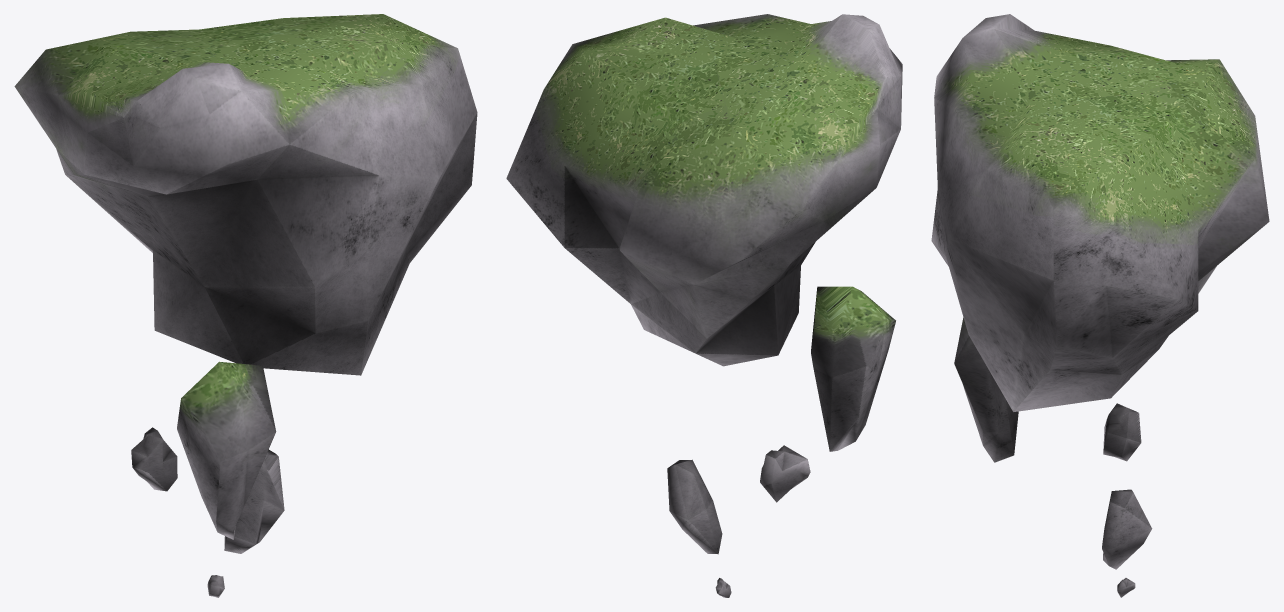
The model's file is Floating_Rock_Medium_01.fbx.
3 views of the same model, side by side, from view 1: azimuth 30°, elevation 25°; view 2: azimuth 150°, elevation 25°; view 3: azimuth 270°, elevation 25° (orthographic). The views are drawn at different scales.
Visible parts, largest first — view 1: polySurface1; view 2: polySurface1; view 3: polySurface1.
Boxes of the visible parts, box(x1,y1,x2,y2) form: polySurface1: box(14, 14, 477, 597); polySurface1: box(506, 14, 902, 597); polySurface1: box(931, 14, 1269, 597).
Size of the model in its own units: 12.69 by 19.53 by 11.02.
1 material, 1 textured.
